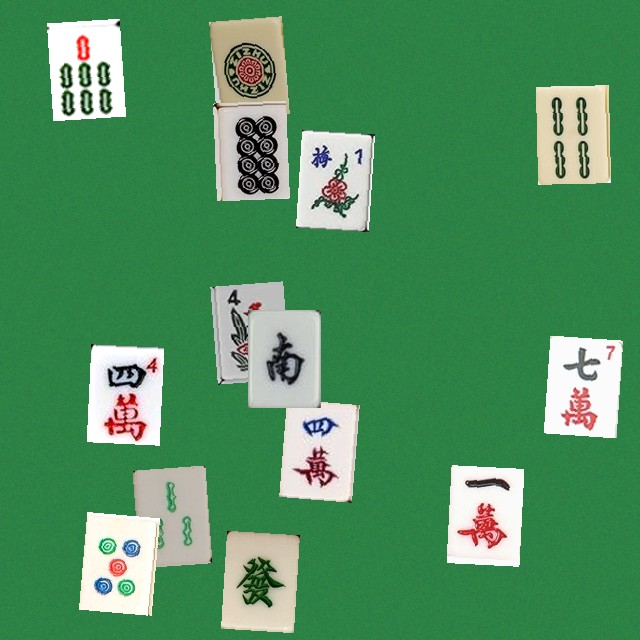tile: (221, 530, 294, 628), (209, 16, 282, 114), (446, 465, 519, 563), (132, 465, 205, 563), (295, 129, 368, 227), (86, 344, 159, 442), (535, 85, 608, 183), (543, 335, 616, 433), (46, 18, 119, 116), (210, 281, 283, 379), (213, 100, 286, 198), (78, 512, 151, 610), (279, 399, 352, 497), (247, 309, 320, 407)
